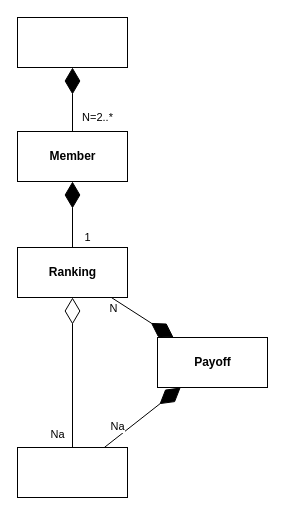
Image size: 285x515. Some labels were removed from this diagram. Here are the shapes that lost their labels. From the top down, the box of each, then its label:
(16, 16, 128, 68): Group
(16, 446, 128, 498): Alternative
